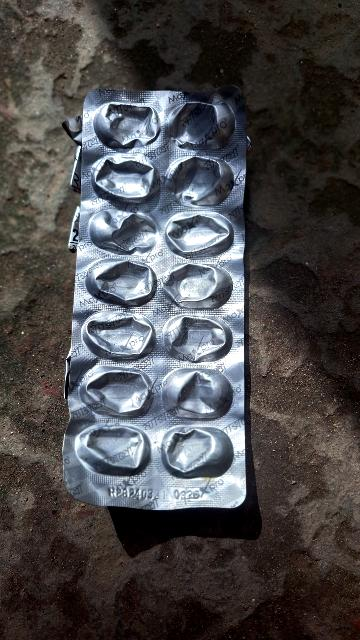medicine: (68, 88, 249, 515)
